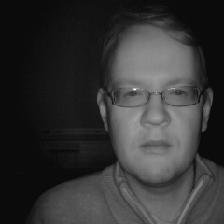normal: (95, 24, 212, 182)
